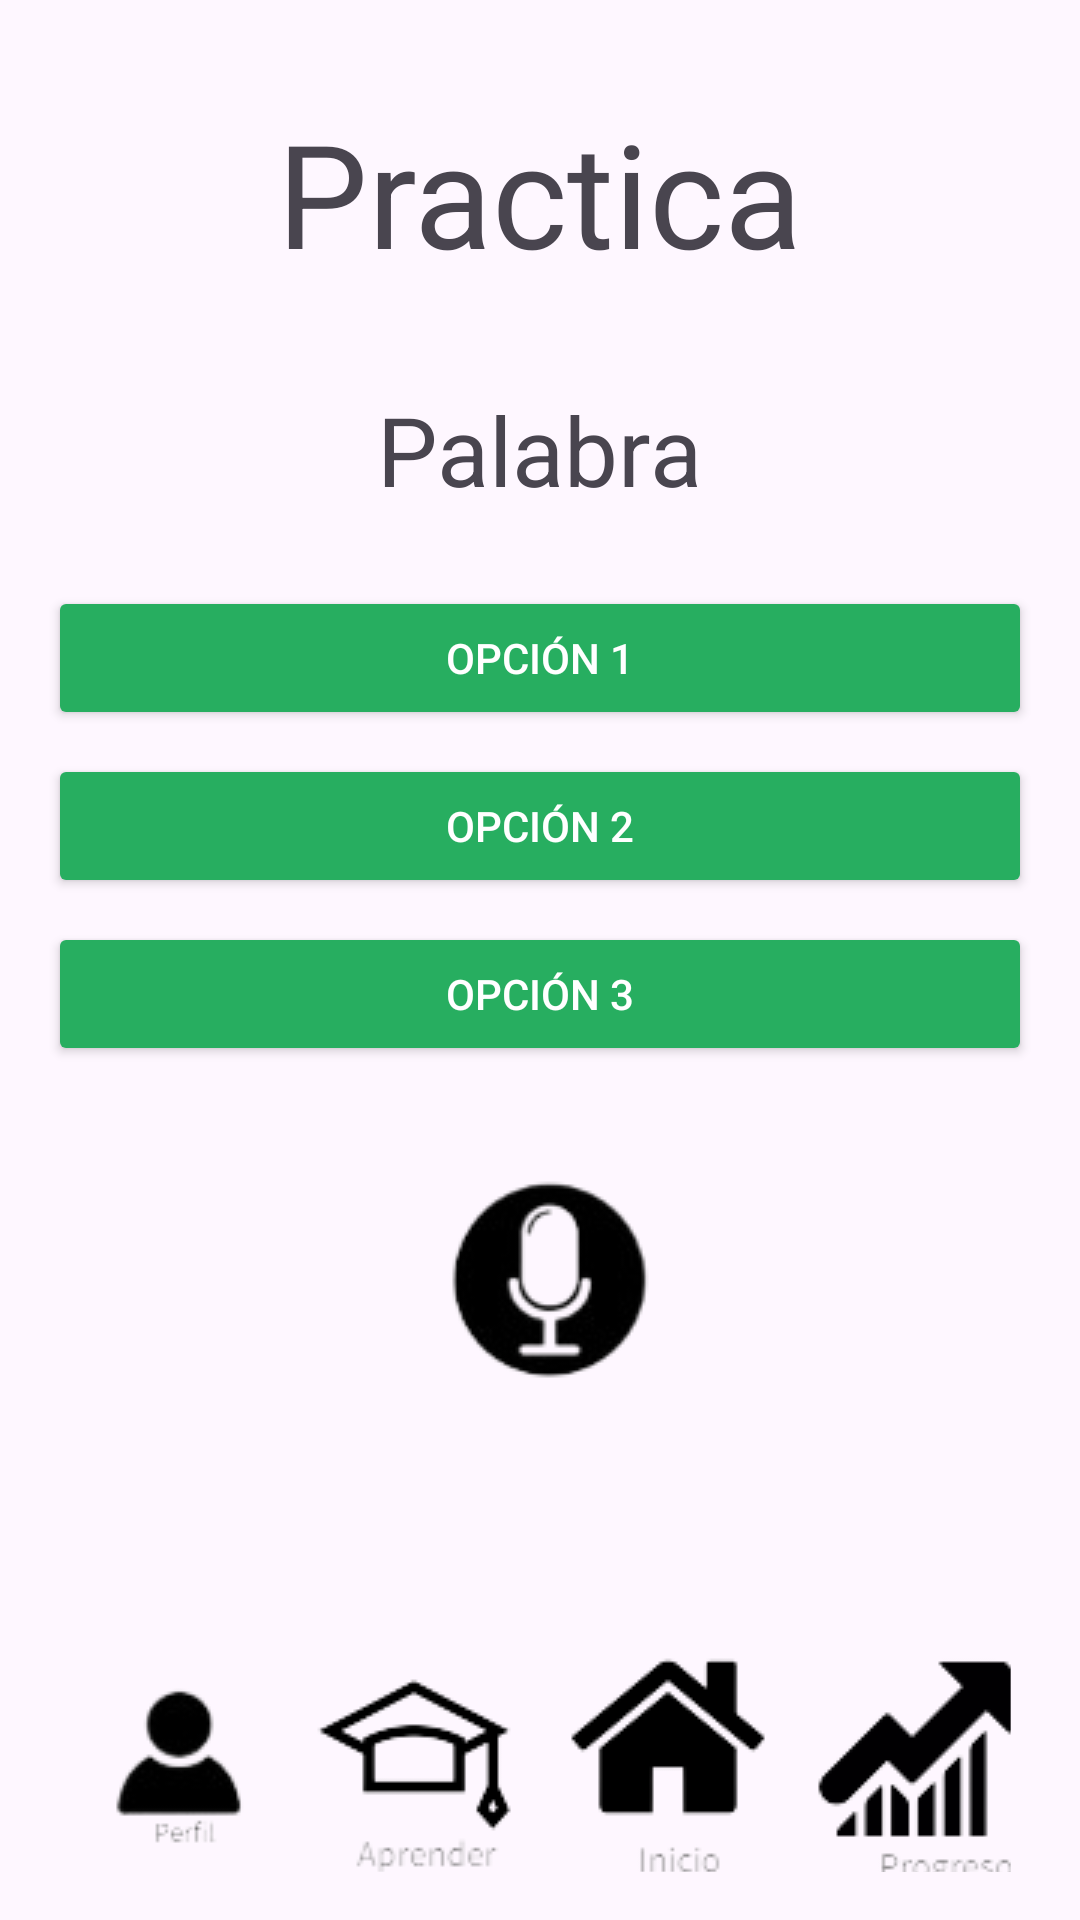

Icons on this 1080×1920 Android screen, each with the point to tap as (x=x, y=y):
voicei: (x=549, y=1280)
